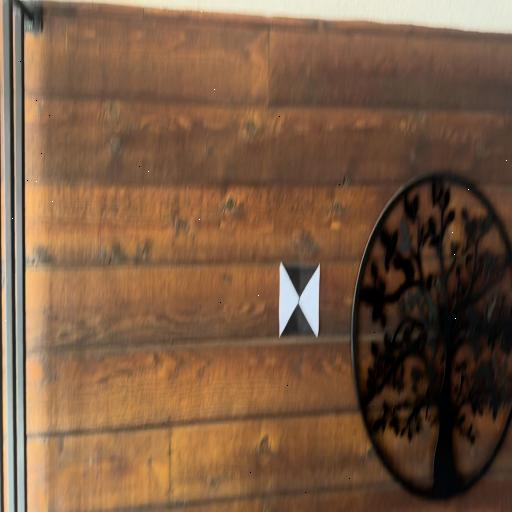target: (279, 263, 318, 336)
